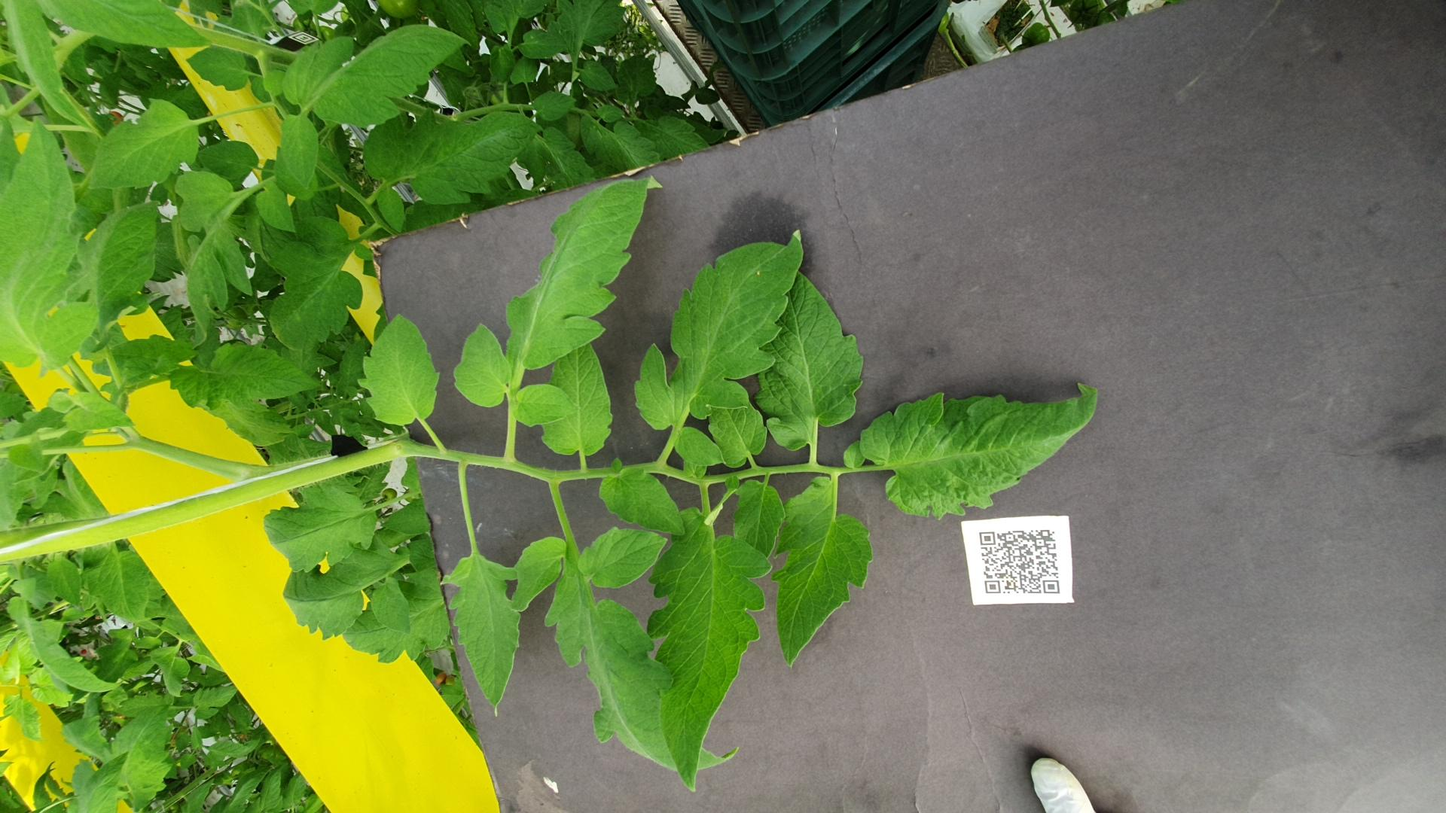Healthy: (688, 255, 1137, 374), (63, 304, 509, 417), (676, 354, 1041, 458), (32, 363, 526, 438), (519, 482, 778, 619), (775, 0, 1243, 57), (1031, 205, 1255, 307), (258, 428, 598, 495), (1218, 158, 1411, 267), (643, 424, 969, 487), (159, 247, 461, 298), (813, 148, 1064, 204), (1106, 45, 1276, 115), (308, 158, 470, 231), (432, 146, 584, 213), (686, 201, 891, 249), (633, 302, 836, 346), (718, 116, 837, 182), (494, 335, 618, 388), (1141, 324, 1259, 372), (350, 285, 493, 320), (611, 396, 731, 432), (673, 34, 753, 78), (1110, 155, 1242, 180), (1284, 101, 1364, 142), (1124, 109, 1199, 145), (616, 376, 690, 408), (164, 107, 228, 135), (1227, 298, 1287, 323), (1286, 325, 1341, 349)
